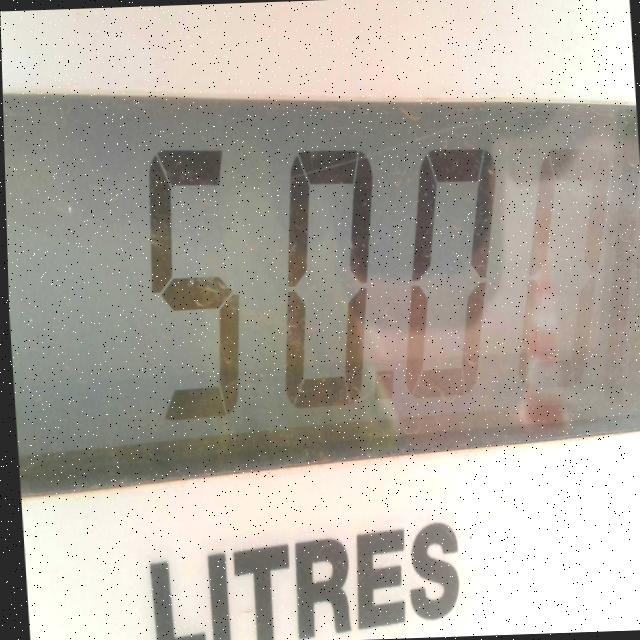.: (369, 351, 396, 407)
0: (264, 148, 379, 414), (505, 146, 621, 406), (395, 150, 506, 407)
5: (137, 135, 248, 428)
